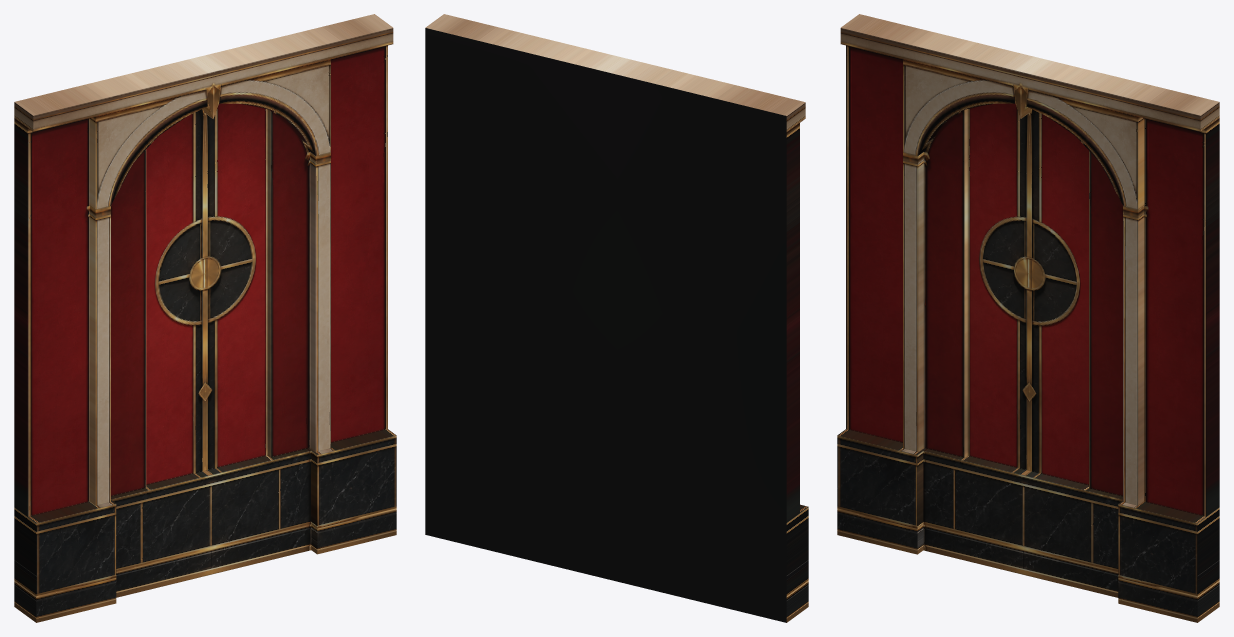
The model's file is Wall_01.glb.
3 views of the same model, side by side, from view 1: azimuth 30°, elevation 25°; view 2: azimuth 150°, elevation 25°; view 3: azimuth 330°, elevation 25° (orthographic).
Visible parts, largest first — view 1: Wall_01.004; view 2: Wall_01.004; view 3: Wall_01.004.
Part boxes in pixels (x1=…): Wall_01.004: x1=14, y1=14, x2=396, y2=622; Wall_01.004: x1=425, y1=14, x2=808, y2=622; Wall_01.004: x1=837, y1=14, x2=1219, y2=622.
Bounding box in the file's own units: 6.88 × 9.21 × 0.7253.
Materials: 1 (1 with a texture image).
